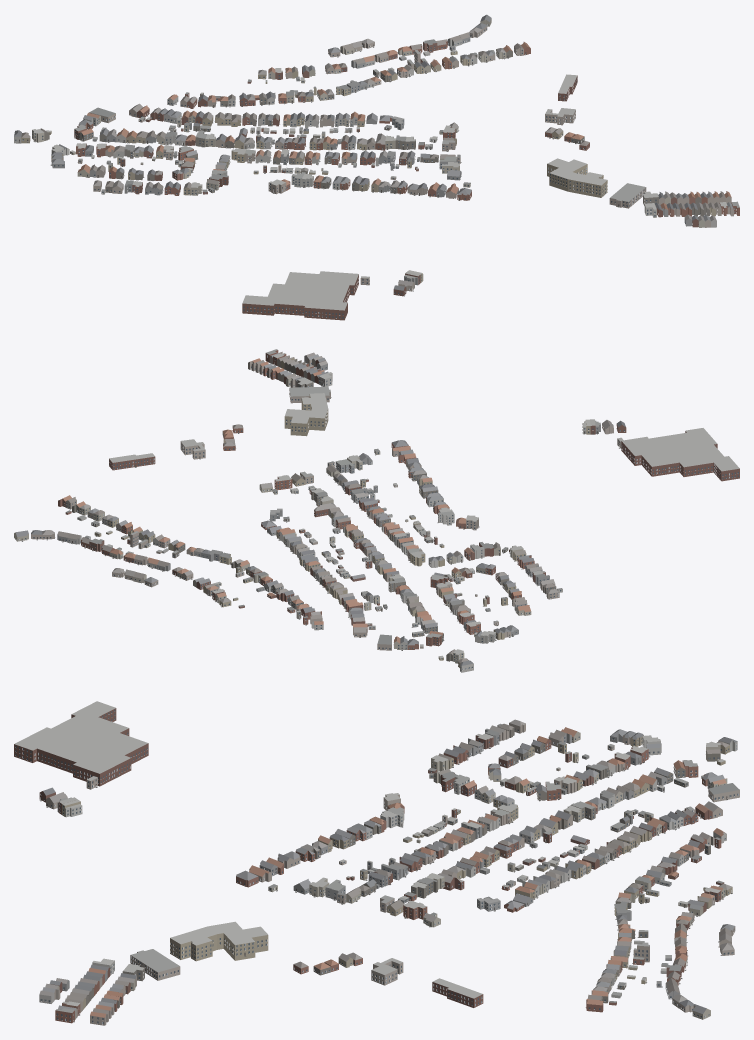
3 renders of one model, top to bottom at view 1: azimuth 30°, elevation 25°; view 2: azimuth 150°, elevation 25°; view 3: azimuth 270°, elevation 25°, orthographic. The views are drawn at different scales.
Visible parts, largest first — view 1: way/20442350, way/346394254, way/346394252; view 2: way/20442350, way/346394254, way/272119244; view 3: way/20442350, way/346394254, way/346394252, way/272119244, way/272960467.
Boxes of the visible parts, bbox=[...] form: way/20442350: bbox=[242, 271, 358, 320]; way/346394254: bbox=[547, 158, 607, 197]; way/346394252: bbox=[609, 183, 646, 208]; way/20442350: bbox=[621, 428, 739, 481]; way/346394254: bbox=[284, 393, 328, 436]; way/272119244: bbox=[109, 453, 155, 470]; way/20442350: bbox=[14, 701, 148, 786]; way/346394254: bbox=[170, 921, 268, 961]; way/346394252: bbox=[130, 949, 180, 980]; way/272119244: bbox=[432, 978, 483, 1007]; way/272960467: bbox=[371, 958, 403, 985].
Bounding box in the file's own units: 525 × 29.72 × 533.
